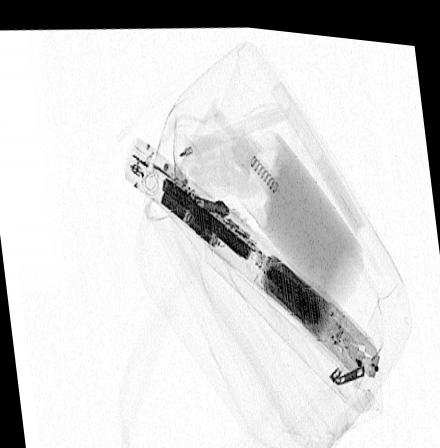Baton: (123, 132, 382, 373)
